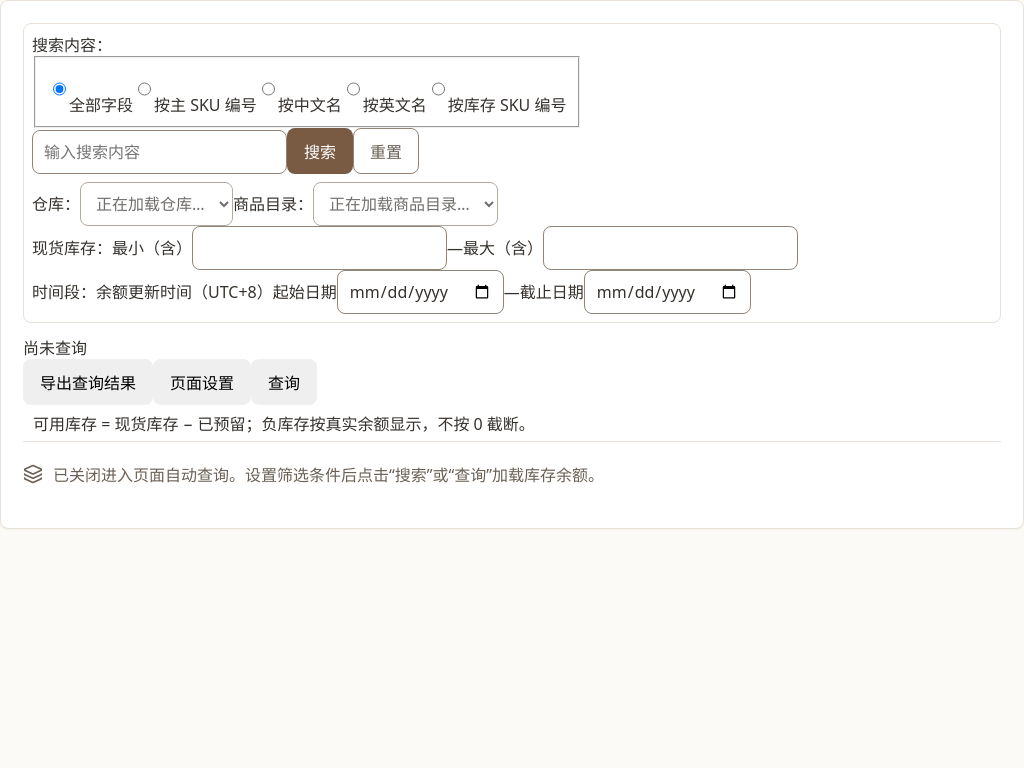
InventoryQueryPage › waits for an explicit query when automatic initialization is off
The image size is (1024, 768).
Expected: the text "已关闭进入页面自动查询。设置筛选条件后点击“搜索”或“查询”加载库存余额。" is shown, [53,462,604,486]
Click the button "查询" at (284, 382), box [251,359,317,405]
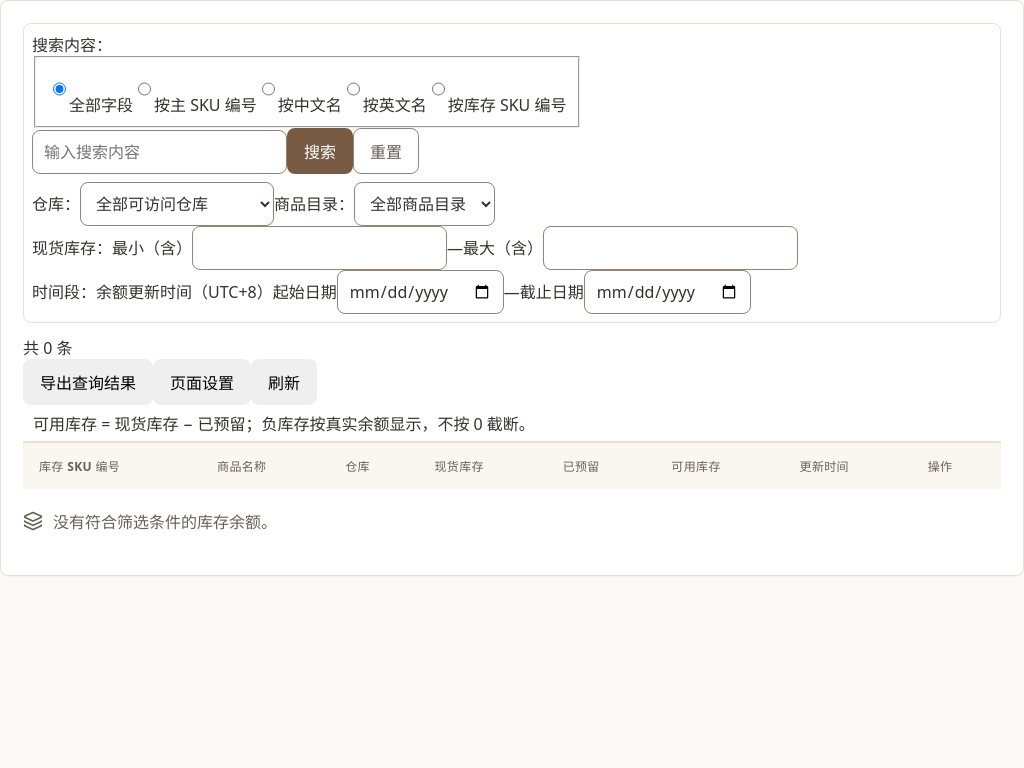
Result: the table named "库存余额列表" is shown at [23,442,1001,489]
